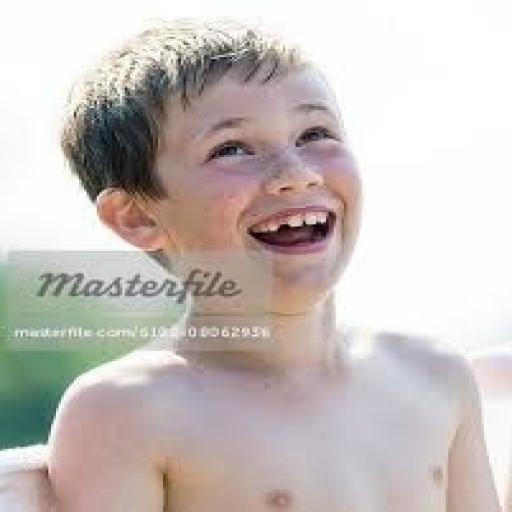laughing: (8, 14, 507, 510)
